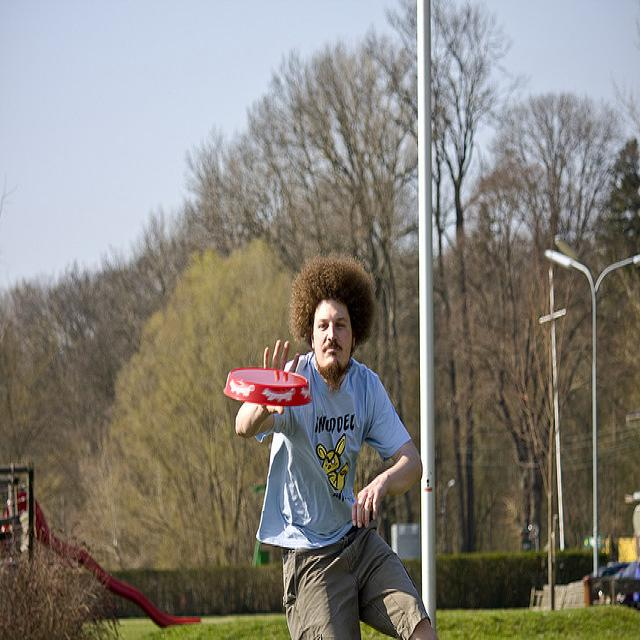Vehicle: (608, 561, 640, 603), (598, 564, 628, 578)
